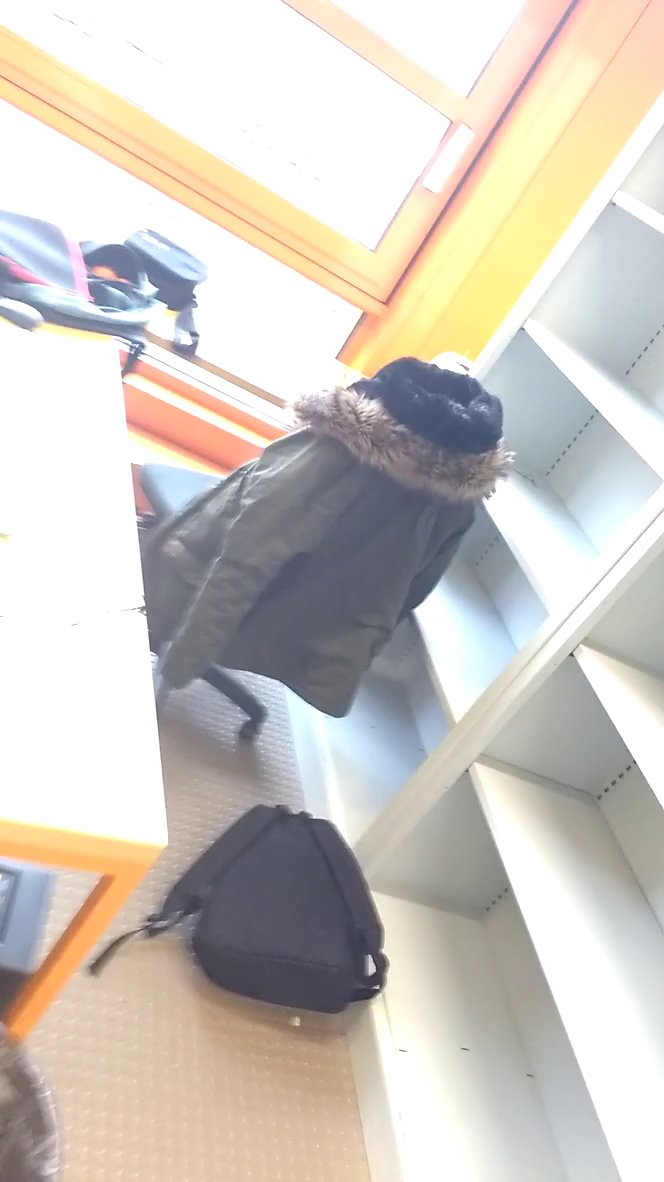bag: (86, 778, 402, 1029)
